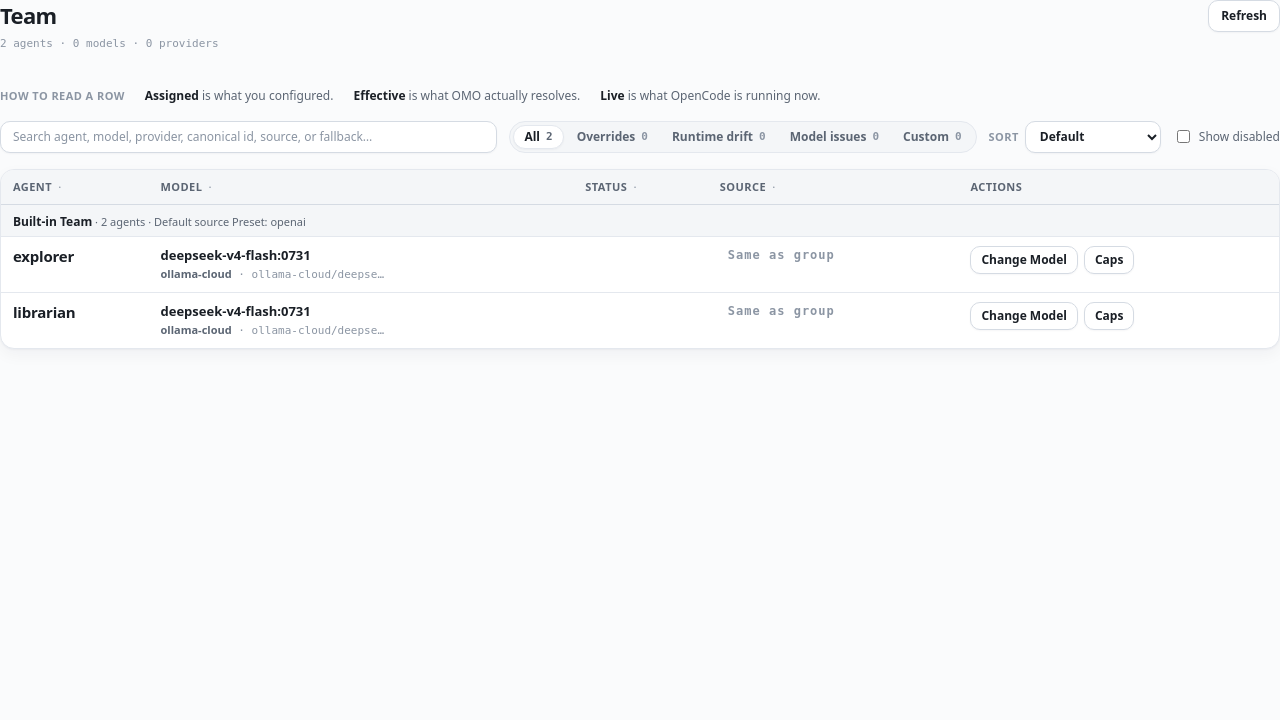
Test: agents assignment IA — detail drawer & editor transitions › name button is the only detail opener (aria-expanded/controls); drawer shows sessions
The width and height of the screenshot is (1280, 720).
Click the button "explorer" at (44, 257), box x1=13 y1=246 x2=74 y2=268
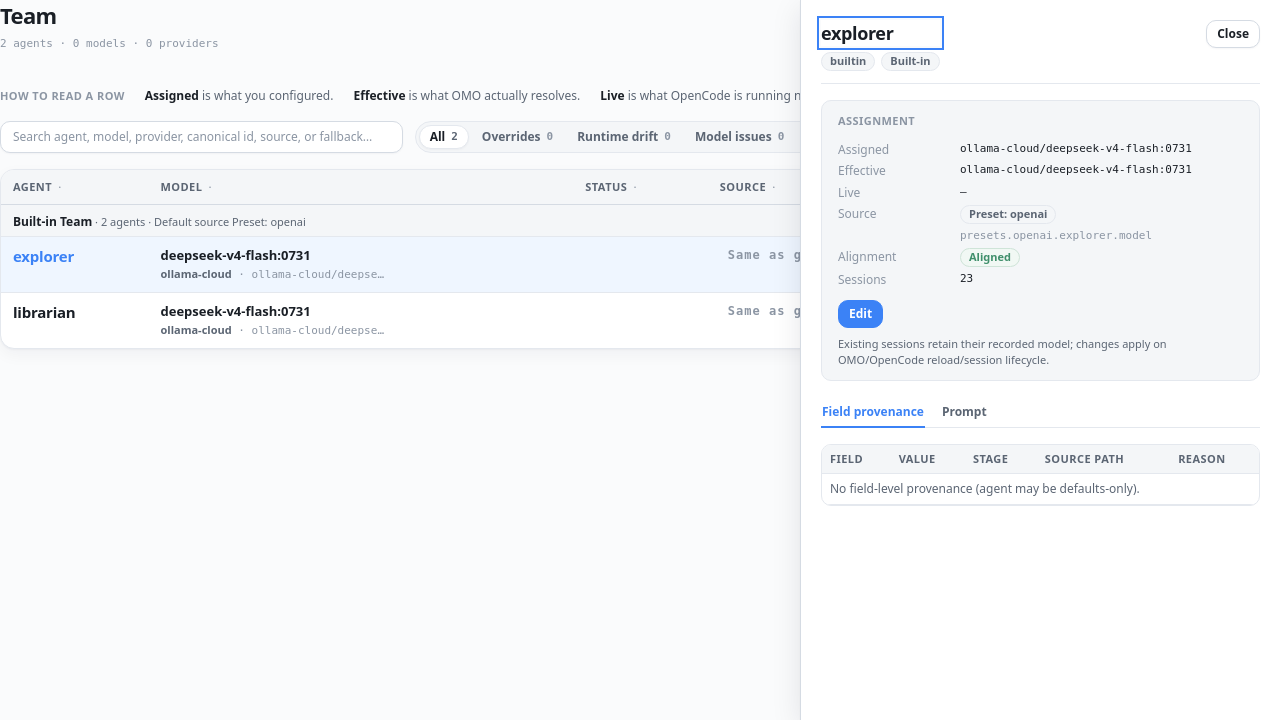
Expected: the button "explorer" is expanded, x1=13 y1=246 x2=74 y2=268
Expected: the text "Sessions" is shown, x1=838 y1=271 x2=886 y2=288
Expected: the text "23" is shown, x1=960 y1=272 x2=973 y2=285
